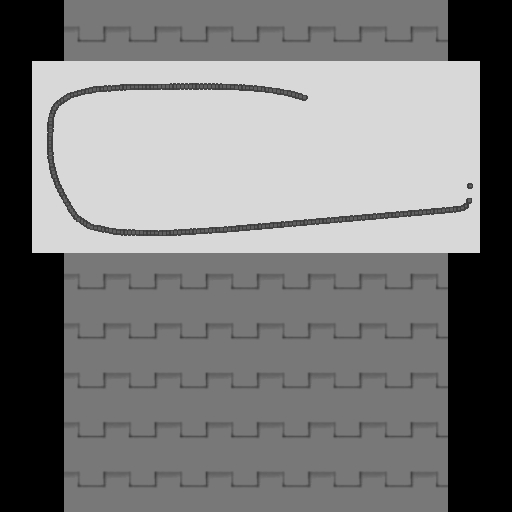Defect: (305, 87, 461, 118)
